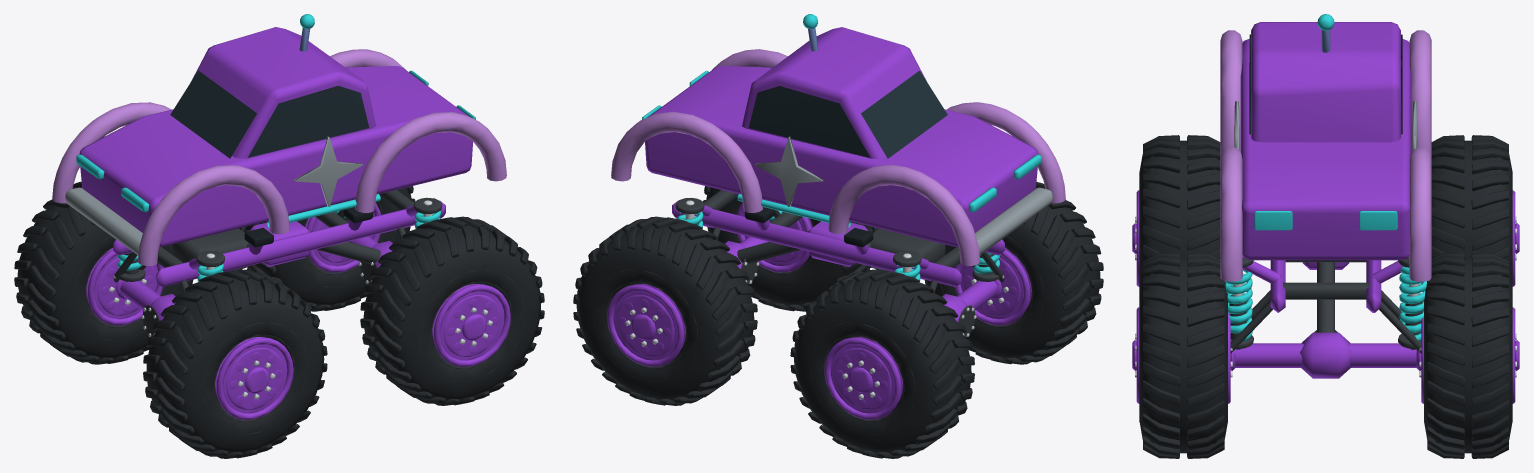
Rendered from RocketRumble.fbx.
3 views of the same model, side by side, from view 1: azimuth 30°, elevation 25°; view 2: azimuth 150°, elevation 25°; view 3: azimuth 270°, elevation 25° (orthographic). The views are drawn at different scales.
Parts seen in each view (by area): view 1: RocketRumble_LOD0_sprung_body_Geometry, RocketRumble_LOD0_FL_Spin_Geometry, RocketRumble_LOD0_RL_Spin_Geometry, RocketRumble_LOD0_FR_Spin_Geometry, RocketRumble_LOD0_RR_Spin_Geometry, RocketRumble_LOD0_FRONT_axle_Geometry, RocketRumble_LOD0_Root_Geometry, RocketRumble_LOD0_REAR_axle_Geometry, RocketRumble_LOD0_REAR_shock_-1_Geometry, RocketRumble_LOD0_FRONT_shock_-1_Geometry; view 2: RocketRumble_LOD0_sprung_body_Geometry, RocketRumble_LOD0_RR_Spin_Geometry, RocketRumble_LOD0_FR_Spin_Geometry, RocketRumble_LOD0_FL_Spin_Geometry, RocketRumble_LOD0_RL_Spin_Geometry, RocketRumble_LOD0_FRONT_axle_Geometry, RocketRumble_LOD0_Root_Geometry, RocketRumble_LOD0_REAR_axle_Geometry, RocketRumble_LOD0_REAR_shock_1_Geometry, RocketRumble_LOD0_FRONT_shock_1_Geometry; view 3: RocketRumble_LOD0_sprung_body_Geometry, RocketRumble_LOD0_RL_Spin_Geometry, RocketRumble_LOD0_RR_Spin_Geometry, RocketRumble_LOD0_FR_Spin_Geometry, RocketRumble_LOD0_FL_Spin_Geometry, RocketRumble_LOD0_REAR_axle_Geometry, RocketRumble_LOD0_Root_Geometry, RocketRumble_LOD0_REAR_shock_1_Geometry, RocketRumble_LOD0_REAR_shock_-1_Geometry.
Part boxes in pixels (x1,y1,x2,y2): RocketRumble_LOD0_sprung_body_Geometry: (52,14,506,286); RocketRumble_LOD0_FL_Spin_Geometry: (143,269,327,458); RocketRumble_LOD0_RL_Spin_Geometry: (360,216,544,405); RocketRumble_LOD0_FR_Spin_Geometry: (14,181,193,364); RocketRumble_LOD0_RR_Spin_Geometry: (239,186,415,311); RocketRumble_LOD0_FRONT_axle_Geometry: (120,280,175,337); RocketRumble_LOD0_Root_Geometry: (113,209,405,292); RocketRumble_LOD0_REAR_axle_Geometry: (349,236,392,284); RocketRumble_LOD0_REAR_shock_-1_Geometry: (413,197,442,228); RocketRumble_LOD0_FRONT_shock_-1_Geometry: (196,250,224,281); RocketRumble_LOD0_sprung_body_Geometry: (611,14,1065,287); RocketRumble_LOD0_RR_Spin_Geometry: (573,216,757,405); RocketRumble_LOD0_FR_Spin_Geometry: (790,269,974,458); RocketRumble_LOD0_FL_Spin_Geometry: (922,181,1103,364); RocketRumble_LOD0_RL_Spin_Geometry: (702,186,878,311); RocketRumble_LOD0_FRONT_axle_Geometry: (942,280,997,337); RocketRumble_LOD0_Root_Geometry: (696,209,1004,292); RocketRumble_LOD0_REAR_axle_Geometry: (725,237,768,284); RocketRumble_LOD0_REAR_shock_1_Geometry: (675,197,704,227); RocketRumble_LOD0_FRONT_shock_1_Geometry: (893,250,921,280); RocketRumble_LOD0_sprung_body_Geometry: (1220,14,1431,312); RocketRumble_LOD0_RL_Spin_Geometry: (1132,252,1235,458); RocketRumble_LOD0_RR_Spin_Geometry: (1416,252,1519,458); RocketRumble_LOD0_FR_Spin_Geometry: (1421,135,1519,288); RocketRumble_LOD0_FL_Spin_Geometry: (1132,135,1220,288); RocketRumble_LOD0_REAR_axle_Geometry: (1235,330,1416,378); RocketRumble_LOD0_Root_Geometry: (1230,262,1421,353); RocketRumble_LOD0_REAR_shock_1_Geometry: (1398,257,1426,348); RocketRumble_LOD0_REAR_shock_-1_Geometry: (1224,257,1253,348).
Bounding box in the file's own units: 517 × 461 × 414.
